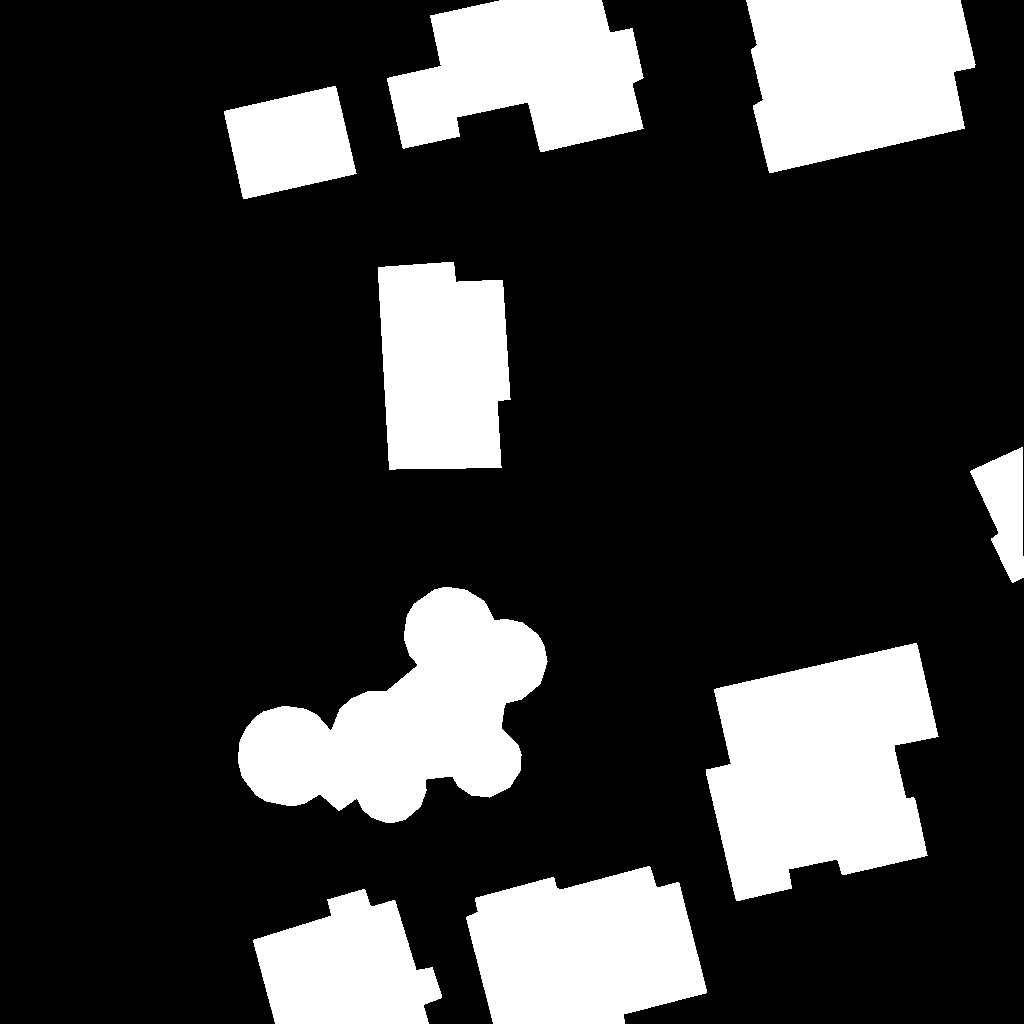building: (238, 587, 548, 823), (706, 643, 939, 902), (746, 0, 976, 174), (387, 0, 644, 153), (466, 866, 708, 1024), (378, 262, 511, 470), (253, 889, 443, 1024), (224, 86, 357, 200), (970, 447, 1024, 584)
